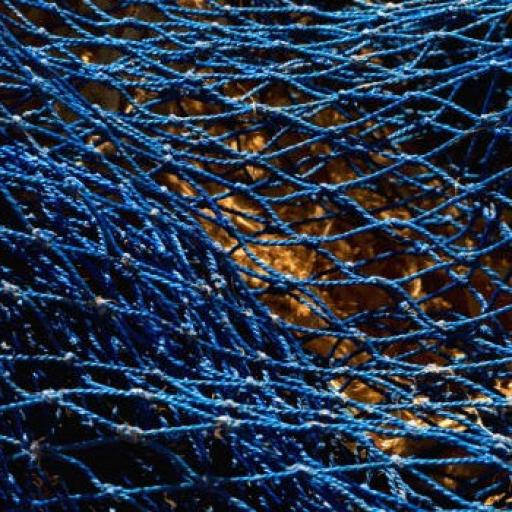net: (0, 3, 512, 509)
